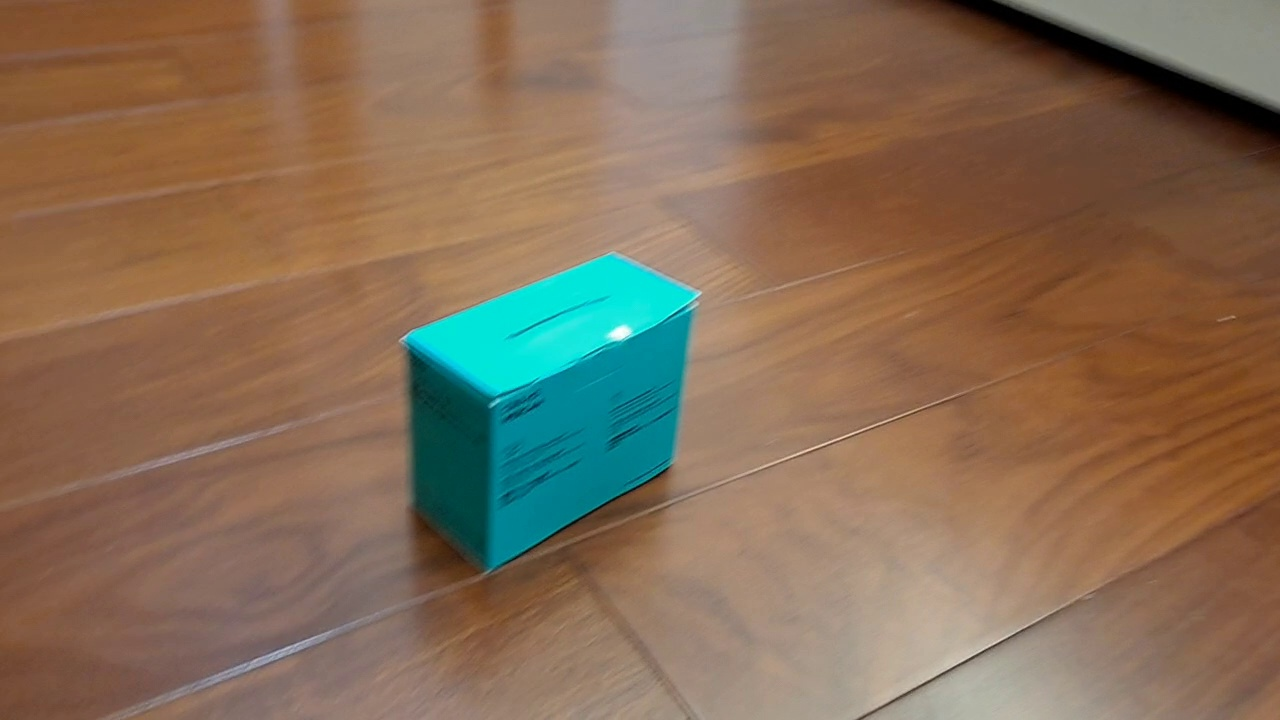webcam: (397, 249, 703, 576)
